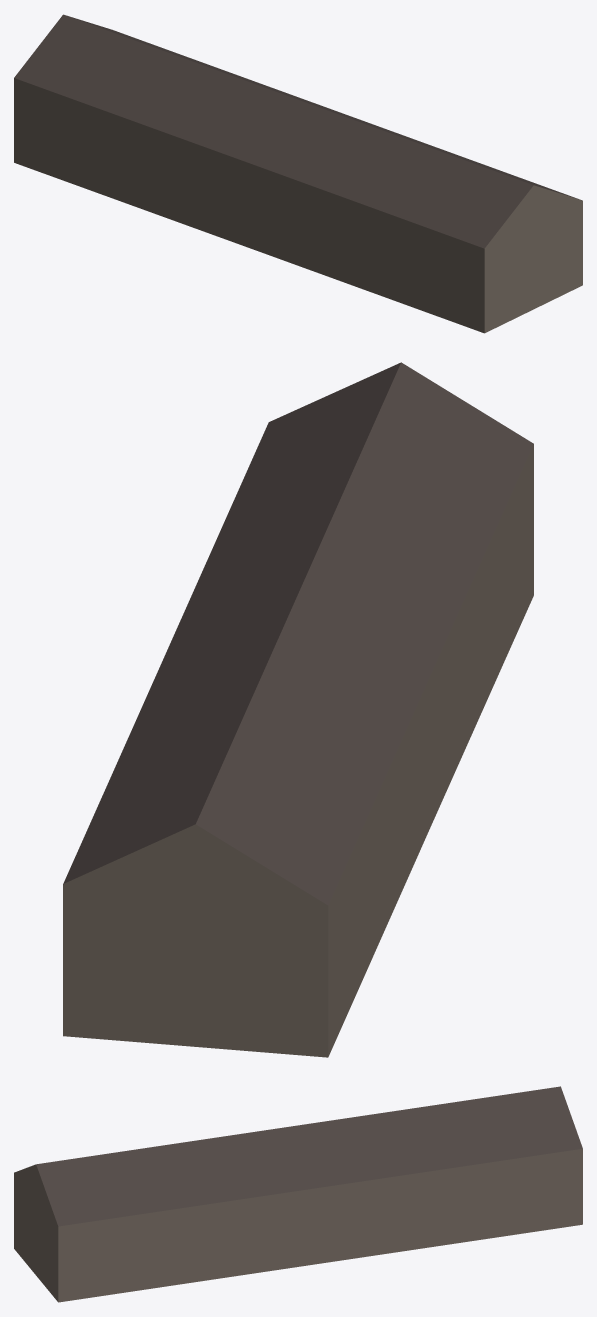
3 views of the same model, one above another, from view 1: azimuth 30°, elevation 25°; view 2: azimuth 150°, elevation 25°; view 3: azimuth 270°, elevation 25° (orthographic). The views are drawn at different scales.
Visible parts, largest first — view 1: HP-w1376988777; view 2: HP-w1376988777; view 3: HP-w1376988777.
Boxes of the visible parts, x1,y1,x2,y2 form: HP-w1376988777: (14, 14, 582, 333); HP-w1376988777: (63, 362, 533, 1057); HP-w1376988777: (14, 1086, 582, 1302).
Bounding box in the file's own units: 22.3 × 8.79 × 40.7.
